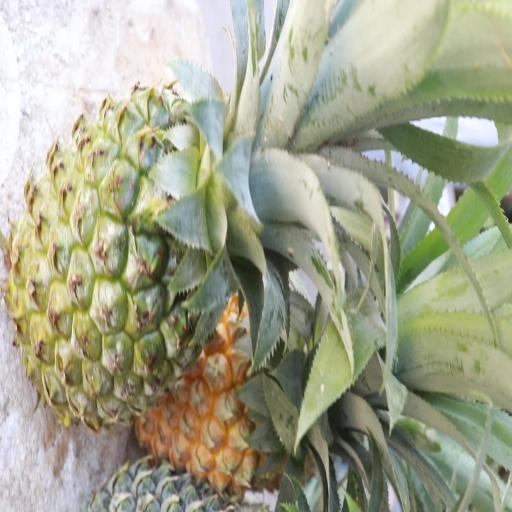------------------------------: (14, 98, 244, 423)
Pineapple - v8 v1: (139, 304, 324, 491)
